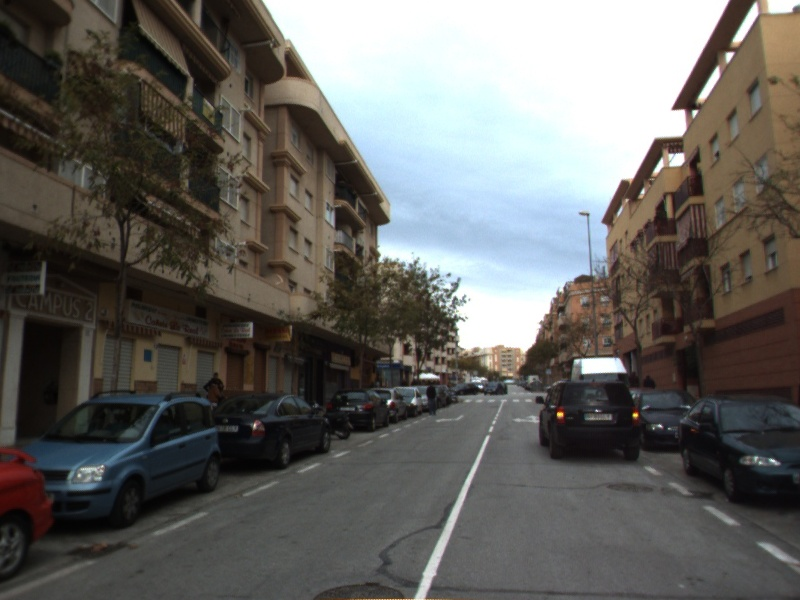STRAIGHT_LEFT: (510, 412, 542, 425)
